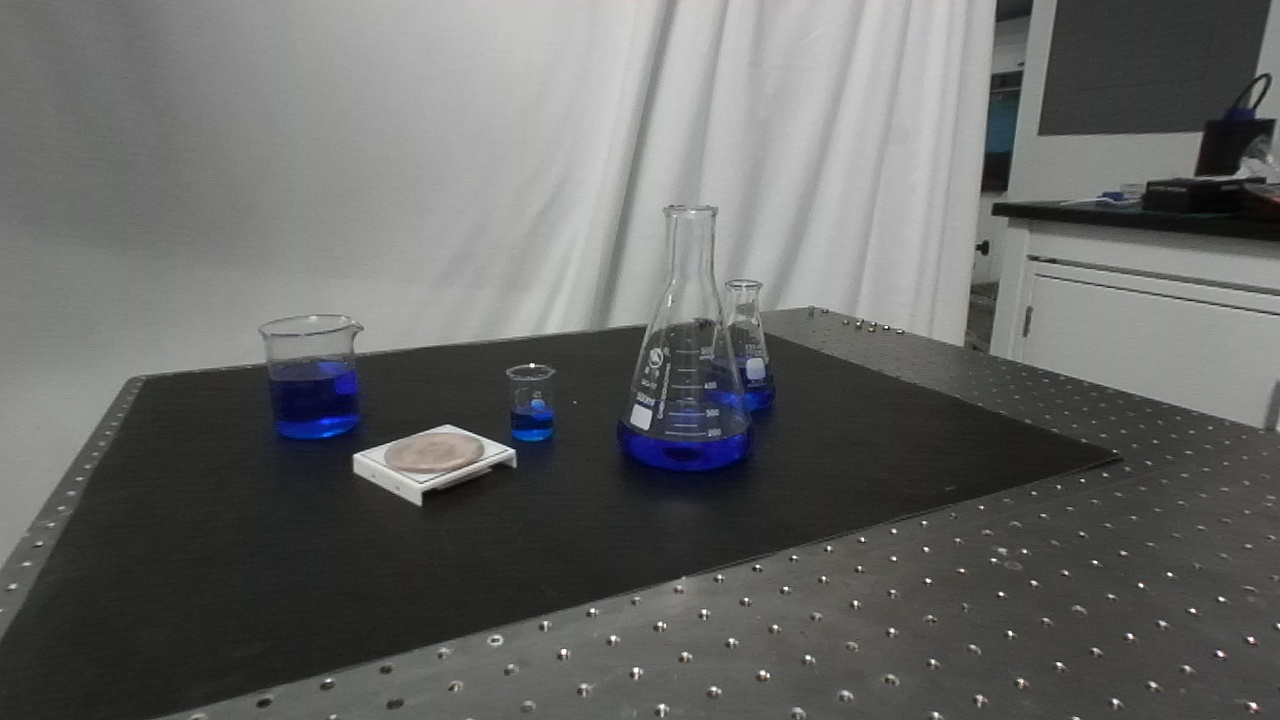glass: (615, 200, 757, 477), (258, 312, 362, 438), (712, 276, 779, 409), (503, 363, 558, 449)
plate: (347, 418, 525, 507)
